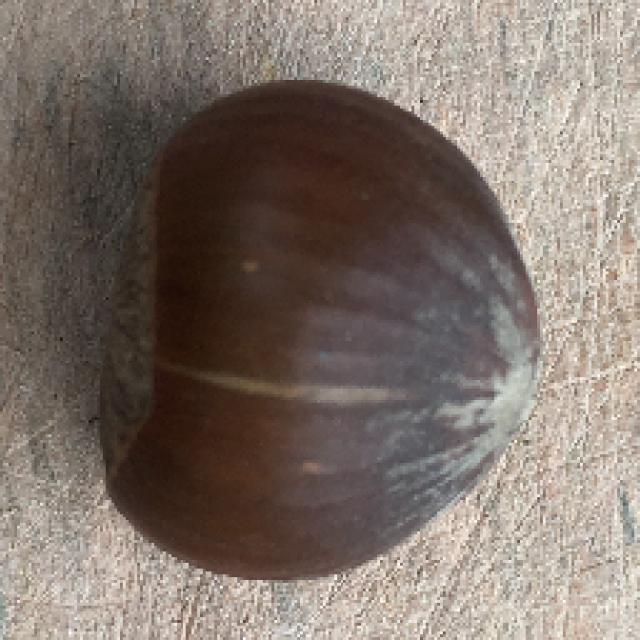DamagedHazelnut: (96, 82, 545, 582)
